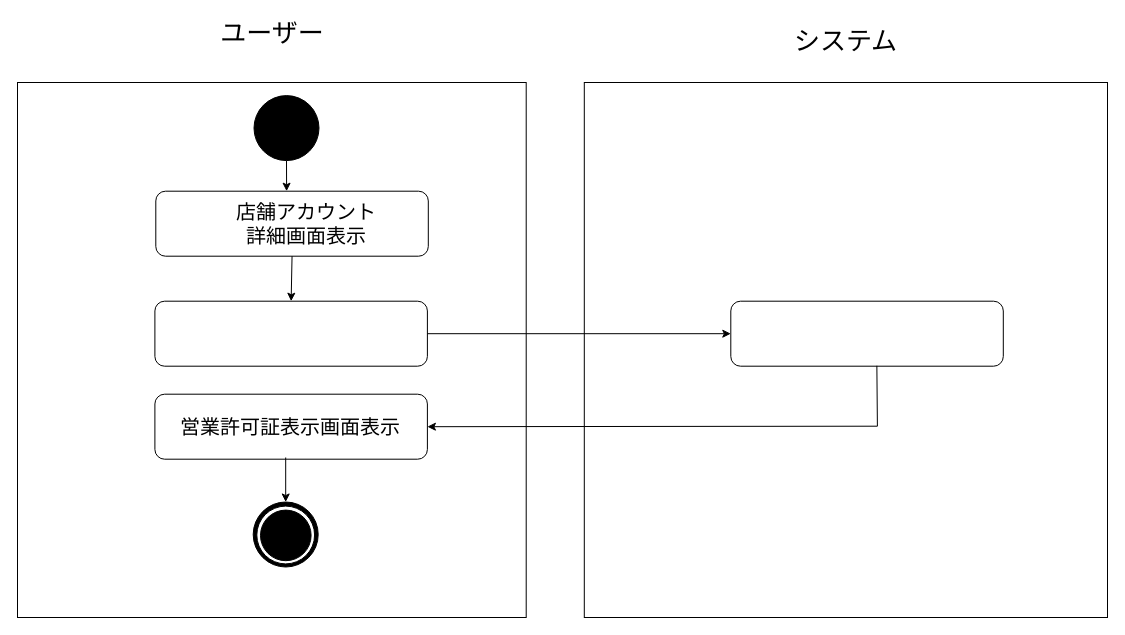
This 1125x635 diagram has some shape labels left out. The box of each missing label's shape, as (x1, y1, x2, y2) in pixels:
「営業許可証」を選択: (154, 300, 427, 366)
営業許可証表示画面生成: (730, 300, 1003, 366)
